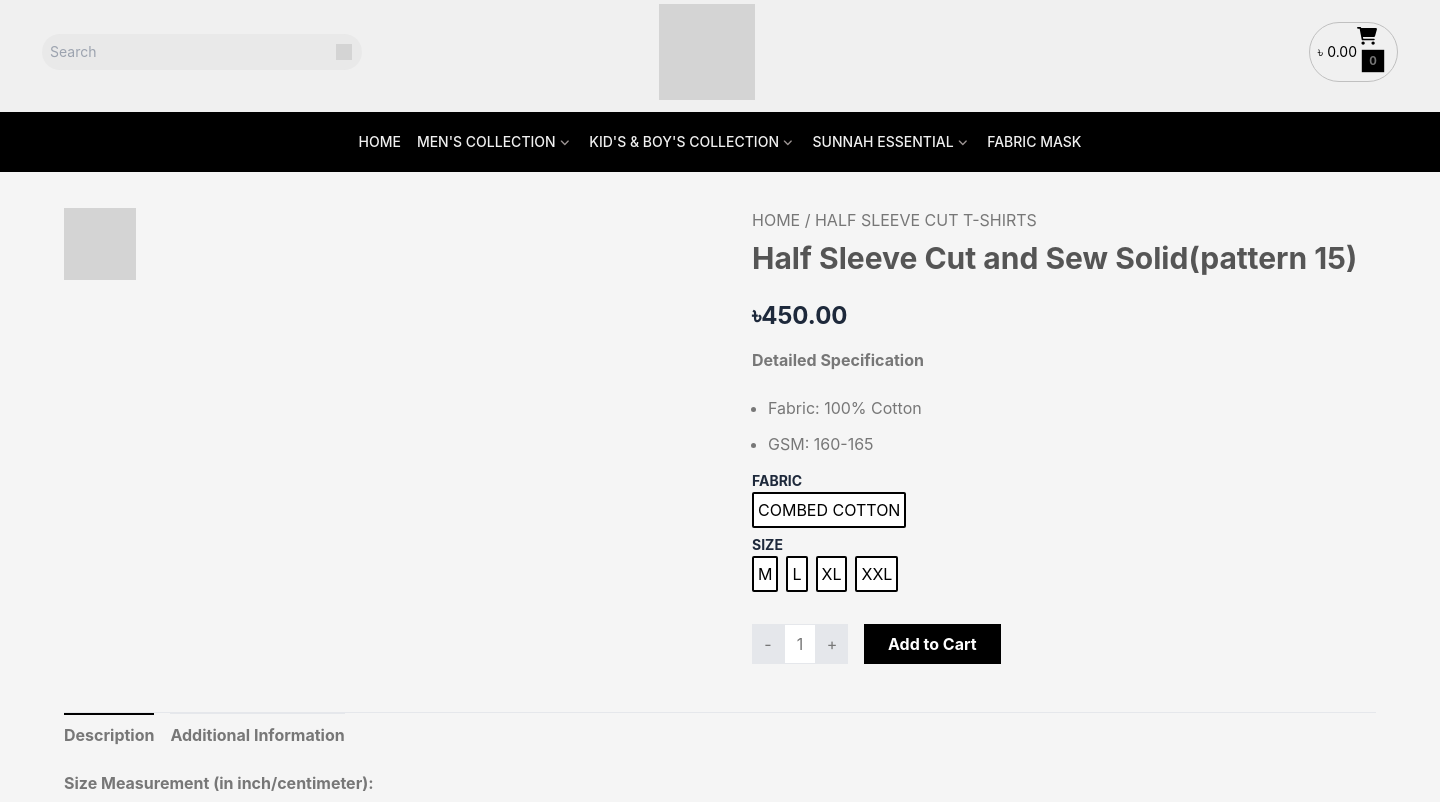
description and additional info › additional info is shown when "additional info" button is clicked
This screenshot has width=1440, height=802.
Click the button "Additional Information" at [258, 734], box [170,713,345,755]
(page scrolled)
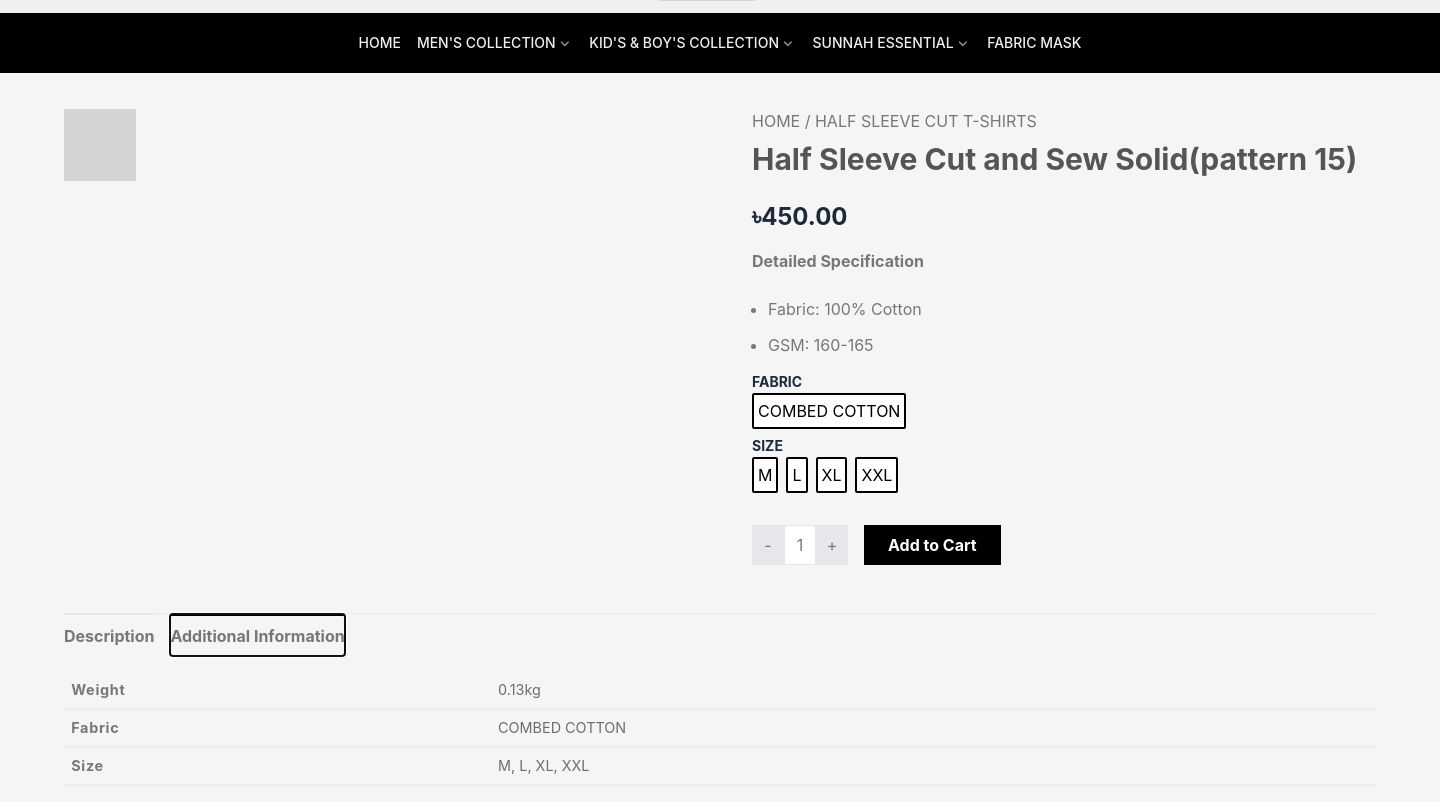
expect the cell "0.13kg" is shown: met, box [491,672,1376,709]
expect the cell "COMBED COTTON" is shown: met, box [491,709,1376,747]
expect the cell "M, L, XL, XXL" is shown: met, box [491,747,1376,785]
